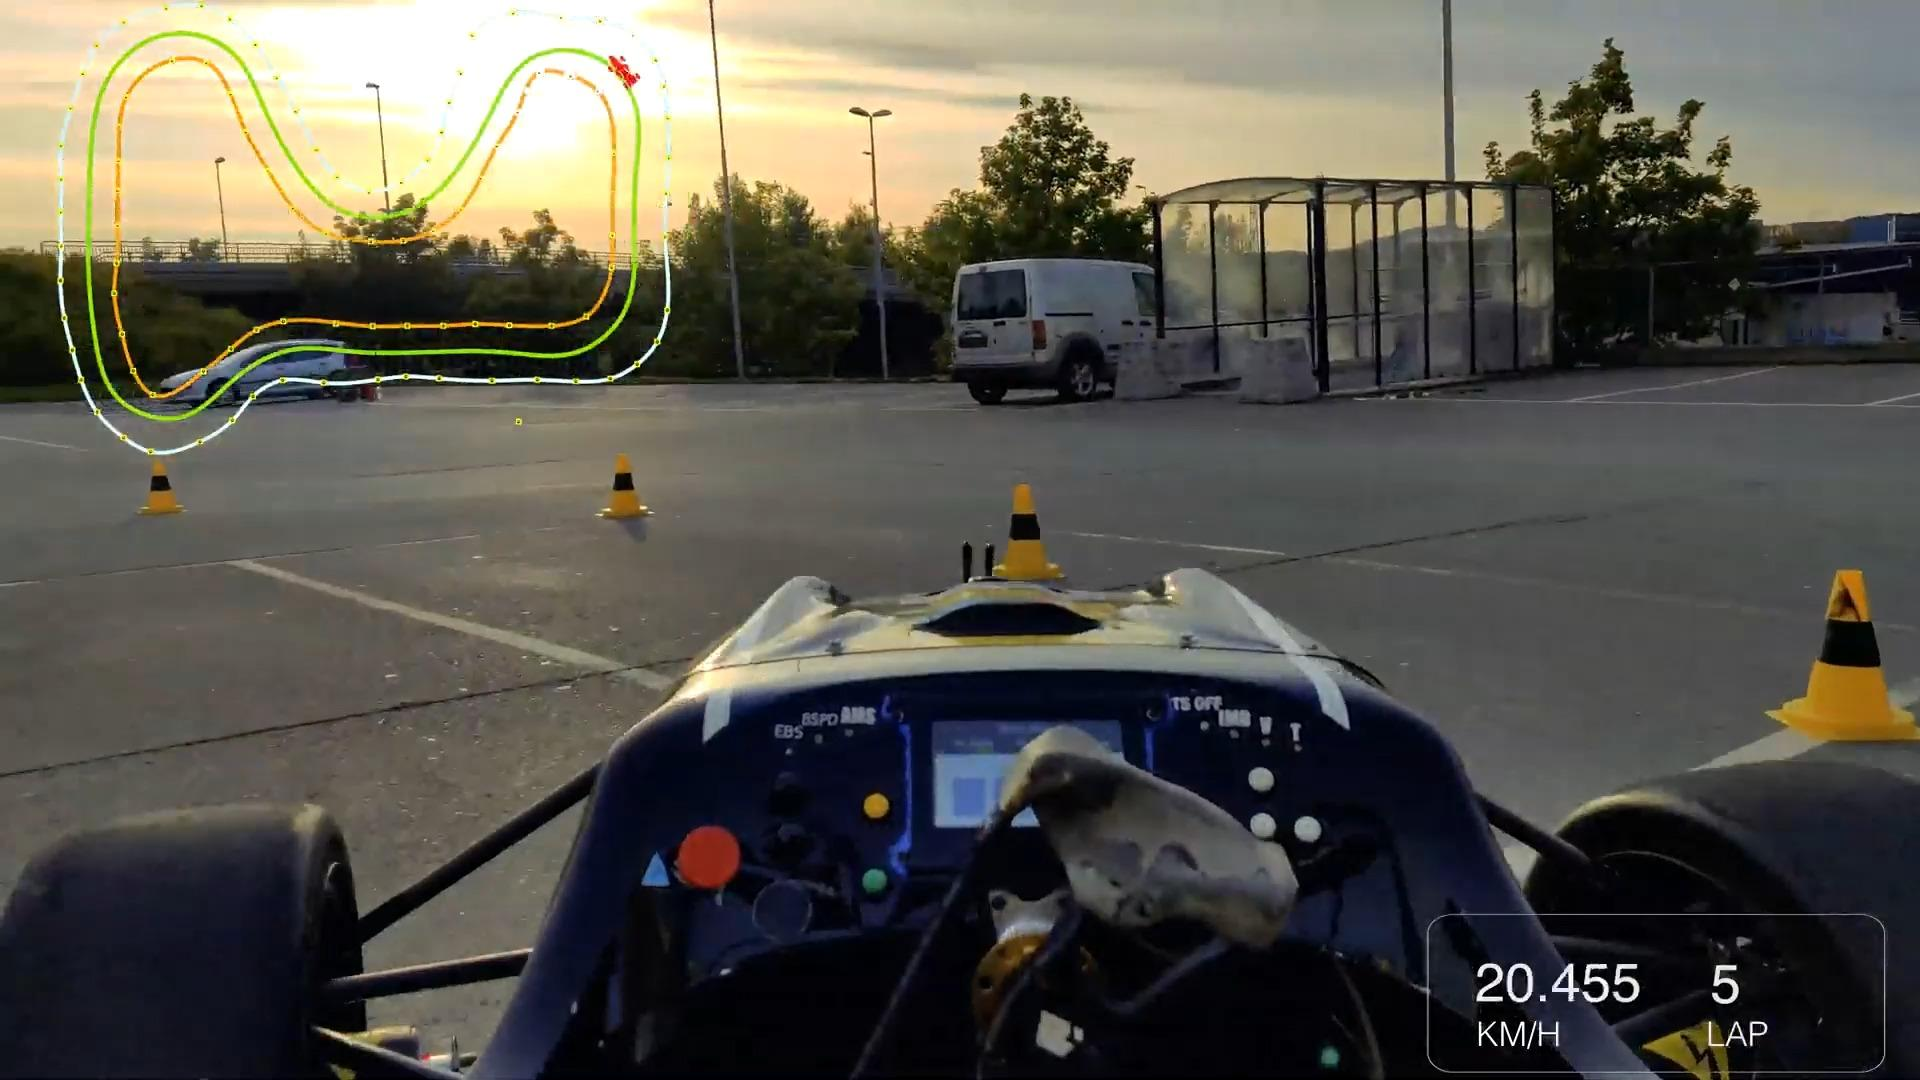yellow_cone: (1775, 560, 1917, 740), (996, 471, 1069, 583), (599, 450, 649, 520), (140, 456, 185, 517)
